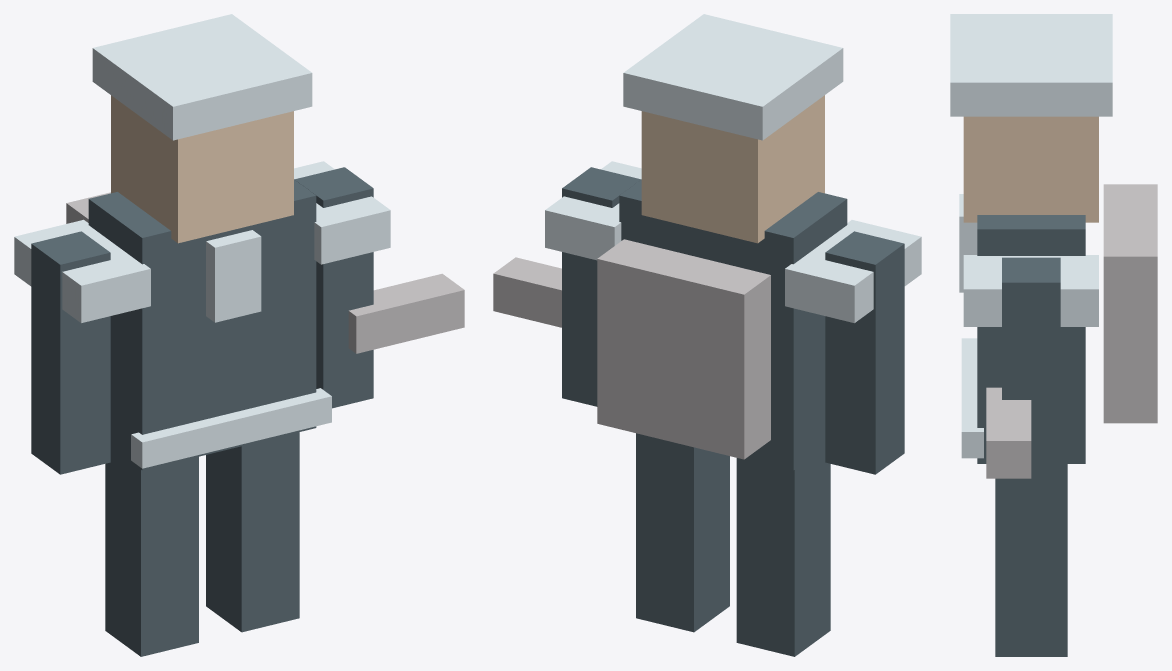
The model's file is 08_quill_stormhush_pilgrim_under_echo.glb.
3 views of the same model, side by side, from view 1: azimuth 30°, elevation 25°; view 2: azimuth 150°, elevation 25°; view 3: azimuth 270°, elevation 25° (orthographic).
Visible parts, largest first — view 1: Quill Stormhush, Pilgrim under Echo; view 2: Quill Stormhush, Pilgrim under Echo; view 3: Quill Stormhush, Pilgrim under Echo.
Boxes of the visible parts, box(x1,y1,x2,y2) form: Quill Stormhush, Pilgrim under Echo: box(14, 14, 464, 656); Quill Stormhush, Pilgrim under Echo: box(493, 14, 921, 656); Quill Stormhush, Pilgrim under Echo: box(950, 14, 1157, 656).
Size of the model in its own units: 1.04 by 1.41 by 0.4652.
